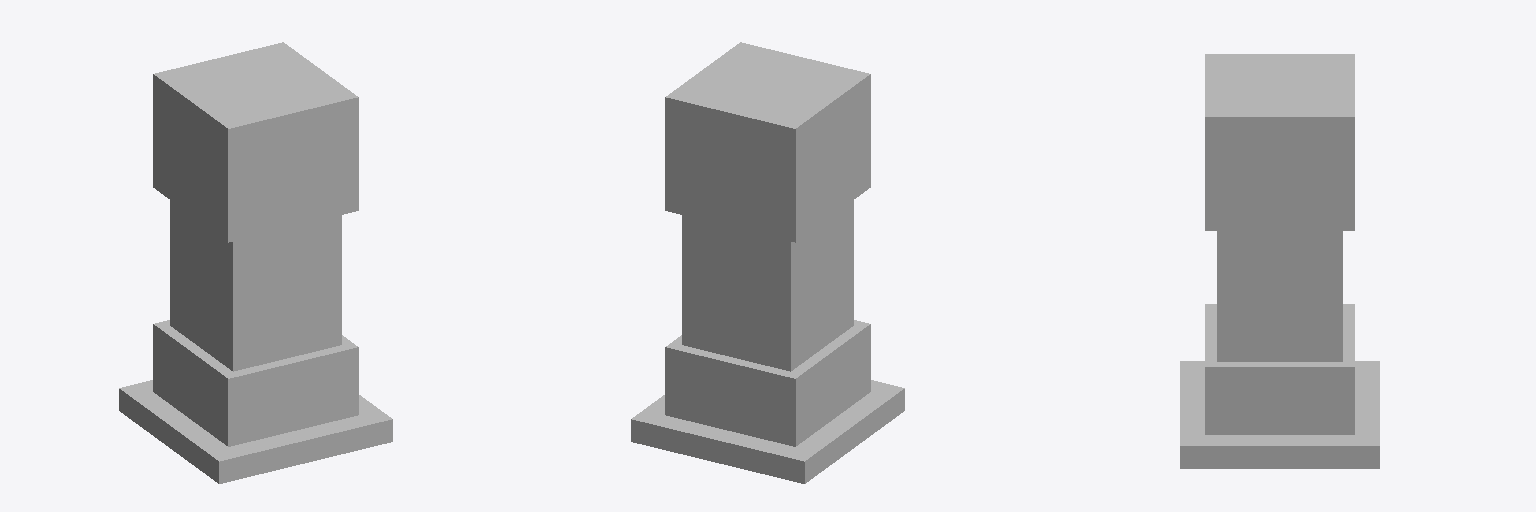
Rendered from rook.obj.
3 views of the same model, side by side, from view 1: azimuth 30°, elevation 25°; view 2: azimuth 150°, elevation 25°; view 3: azimuth 270°, elevation 25° (orthographic).
Parts seen in each view (by area): view 1: cube.002, cube, cube.001, cube.003; view 2: cube.002, cube, cube.001, cube.003; view 3: cube.002, cube, cube.001, cube.003.
Part boxes in pixels (left/top/right/bottom): cube.002: left=153, top=42, right=358, bottom=242; cube: left=170, top=200, right=341, bottom=371; cube.001: left=153, top=320, right=358, bottom=446; cube.003: left=119, top=380, right=392, bottom=483; cube.002: left=665, top=42, right=870, bottom=242; cube: left=682, top=200, right=853, bottom=371; cube.001: left=665, top=320, right=870, bottom=446; cube.003: left=631, top=380, right=904, bottom=483; cube.002: left=1205, top=54, right=1354, bottom=230; cube: left=1217, top=231, right=1342, bottom=361; cube.001: left=1205, top=304, right=1354, bottom=434; cube.003: left=1180, top=361, right=1379, bottom=468.
Size of the model in its own units: 0.5 by 0.9375 by 0.5.